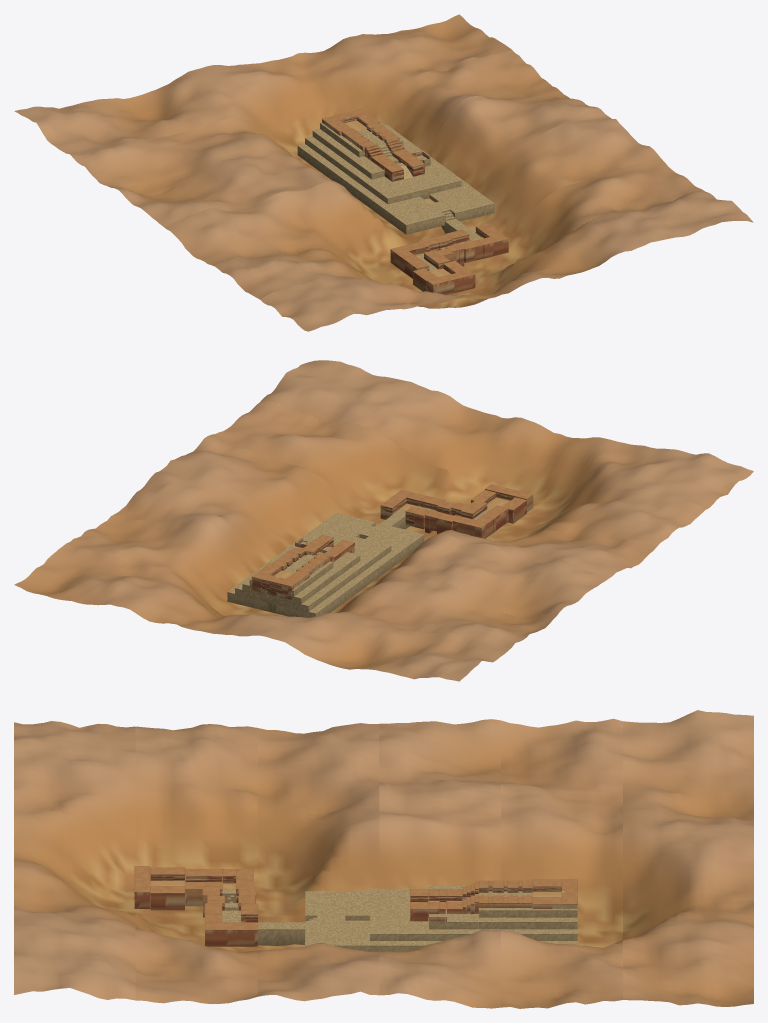
The model's file is pharaohs_steps_terrain.glb.
The picture shows the model from 3 angles, top to bottom: view 1: azimuth 30°, elevation 25°; view 2: azimuth 150°, elevation 25°; view 3: azimuth 270°, elevation 25°; orthographic projection. The views are drawn at different scales.
Parts seen in each view (by area): view 1: backdrop_5, backdrop_2, backdrop_4, backdrop_3, backdrop_0, backdrop_1, terrain_J, terrain_C, terrain_A, terrain_I, terrain_D, terrain_H (+1 smaller); view 2: backdrop_0, backdrop_1, backdrop_5, backdrop_3, backdrop_4, backdrop_2, terrain_J, terrain_C, terrain_A, terrain_D, terrain_I, terrain_H (+1 smaller); view 3: backdrop_5, backdrop_0, backdrop_4, backdrop_2, backdrop_3, backdrop_1, terrain_J, terrain_D, terrain_C, terrain_A, terrain_I, terrain_H (+1 smaller).
Part boxes in pixels (x1,y1,x2,y2): backdrop_5: (14,14,511,153); backdrop_2: (163,116,656,269); backdrop_4: (67,49,559,195); backdrop_3: (115,91,608,226); backdrop_0: (260,190,753,331); backdrop_1: (212,153,704,299); terrain_J: (297,109,494,234); terrain_C: (390,229,483,271); terrain_A: (413,261,475,294); terrain_I: (341,122,404,160); terrain_D: (445,219,508,258); terrain_H: (371,149,425,181); backdrop_0: (260,360,753,515); backdrop_1: (212,401,704,546); backdrop_5: (14,543,511,681); backdrop_3: (115,469,607,619); backdrop_4: (66,514,559,647); backdrop_2: (163,434,656,578); terrain_J: (227,512,424,617); terrain_C: (405,496,493,538); terrain_A: (471,484,533,523); terrain_D: (376,490,426,529); terrain_I: (271,547,333,574); terrain_H: (302,534,354,561); backdrop_5: (623,710,753,1006); backdrop_0: (14,721,135,1000); backdrop_4: (501,718,622,1008); backdrop_2: (257,723,379,1001); backdrop_3: (379,719,500,1008); backdrop_1: (135,724,257,1003); terrain_J: (305,879,577,951); terrain_D: (204,914,305,946); terrain_C: (202,869,258,922); terrain_A: (134,866,185,910); terrain_I: (462,880,532,913); terrain_H: (410,889,462,921).
Bounding box in the file's own units: 483 × 62.49 × 553.
